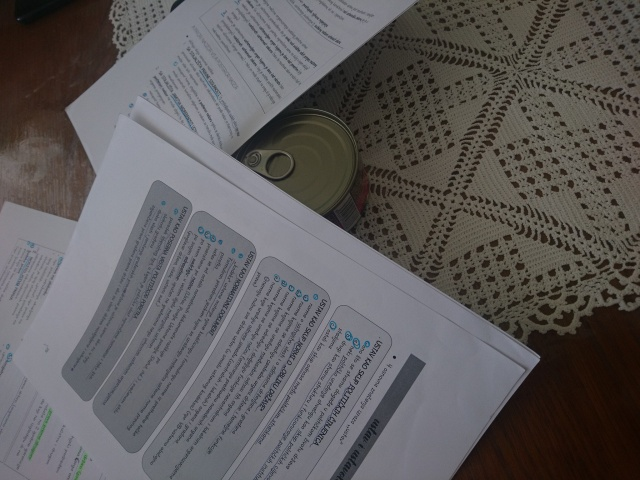Giana Tuna Salad Mexico 185g: (220, 104, 373, 243)
